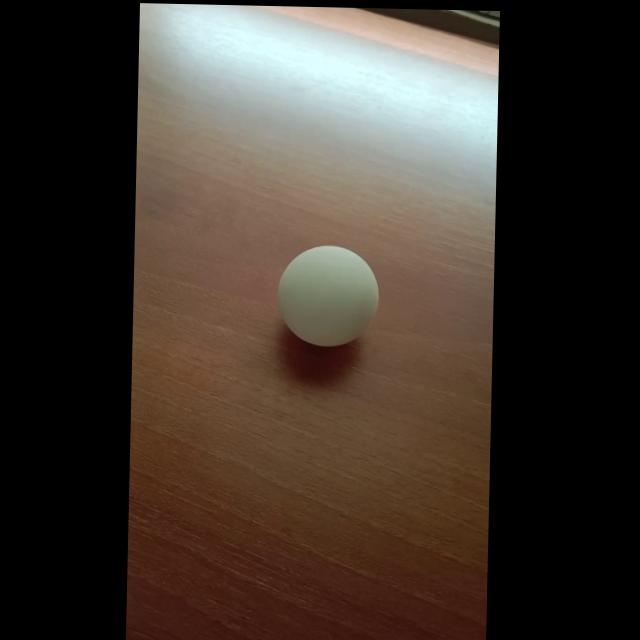white ball: (275, 242, 380, 349)
